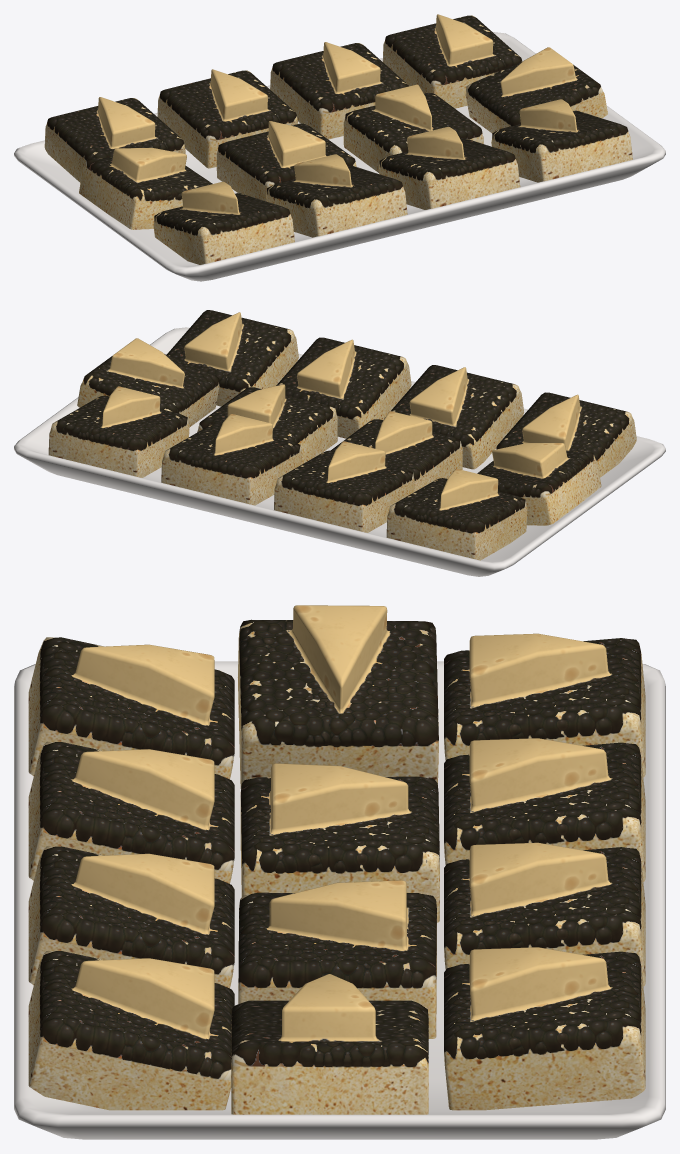
File: BuffetSnacks03_1.FBX
3 renders of one model, top to bottom at view 1: azimuth 30°, elevation 25°; view 2: azimuth 150°, elevation 25°; view 3: azimuth 270°, elevation 25°, orthographic. The views are drawn at different scales.
Visible parts, largest first — view 1: BuffetSnacks03_1; view 2: BuffetSnacks03_1; view 3: BuffetSnacks03_1.
Part boxes in pixels (x1,y1,x2,y2): BuffetSnacks03_1: [14, 14, 665, 281]; BuffetSnacks03_1: [14, 310, 665, 576]; BuffetSnacks03_1: [14, 605, 665, 1139].
Size of what is drawn, in the model's own units: 0.4959 by 0.0687 by 0.2973.
